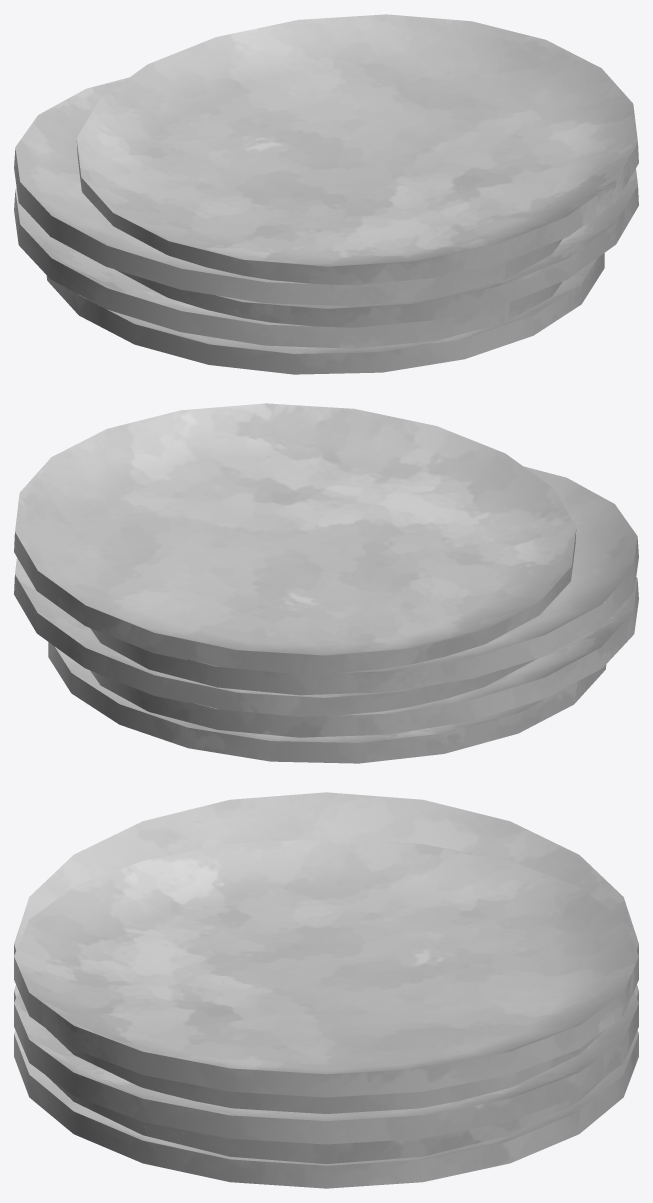
The model's file is Pilha Pratos Empilhados Errado.fbx.
The picture shows the model from 3 angles, top to bottom: view 1: azimuth 30°, elevation 25°; view 2: azimuth 150°, elevation 25°; view 3: azimuth 270°, elevation 25°; orthographic projection. The views are drawn at different scales.
Parts seen in each view (by area): view 1: Pilha Pratos Empilhados Errado; view 2: Pilha Pratos Empilhados Errado; view 3: Pilha Pratos Empilhados Errado.
Part boxes in pixels (x1,y1,x2,y2): Pilha Pratos Empilhados Errado: (14, 14, 638, 374); Pilha Pratos Empilhados Errado: (14, 403, 638, 763); Pilha Pratos Empilhados Errado: (14, 792, 638, 1188).
Bounding box in the file's own units: 40.83 × 9.46 × 36.18.
1 material, 1 textured.
